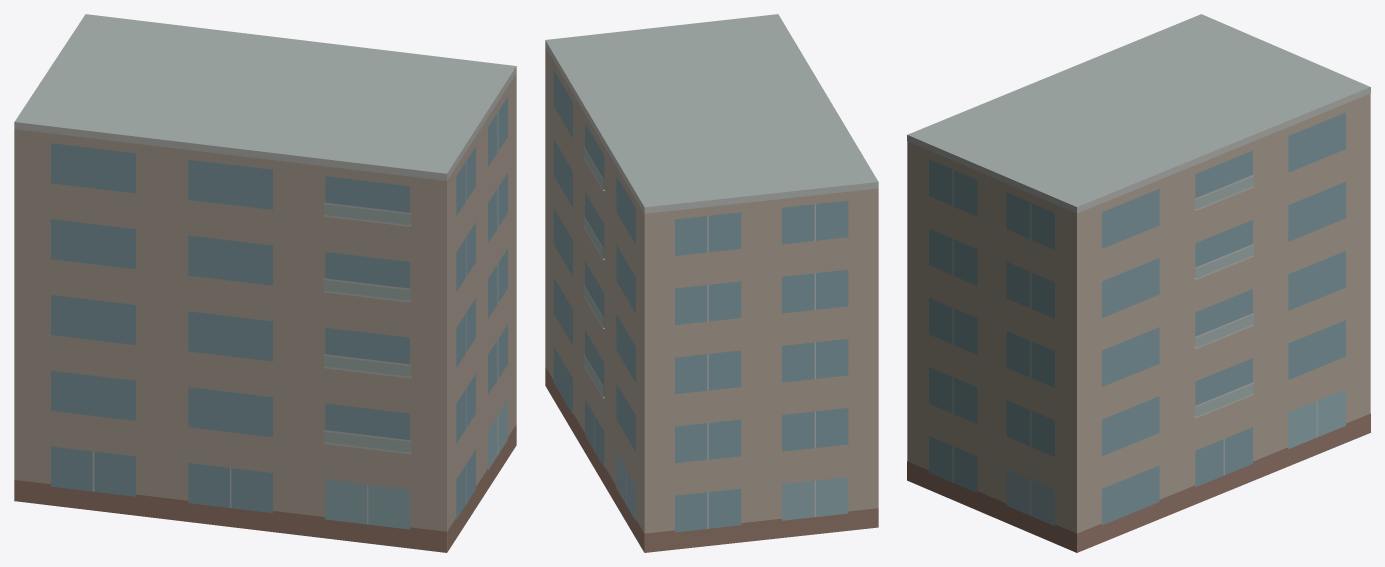
File: survey-upis-32885062.glb
The picture shows the model from 3 angles, left to right: view 1: azimuth 30°, elevation 25°; view 2: azimuth 150°, elevation 25°; view 3: azimuth 270°, elevation 25°; orthographic projection. The views are drawn at different scales.
Parts seen in each view (by area): view 1: survey-upis-32885062.tmp; view 2: survey-upis-32885062.tmp; view 3: survey-upis-32885062.tmp.
Part boxes in pixels (x1,y1,x2,y2): survey-upis-32885062.tmp: [14, 14, 516, 552]; survey-upis-32885062.tmp: [545, 14, 878, 552]; survey-upis-32885062.tmp: [907, 14, 1370, 552].
Bounding box in the file's own units: 15.7 × 13.1 × 15.93.
